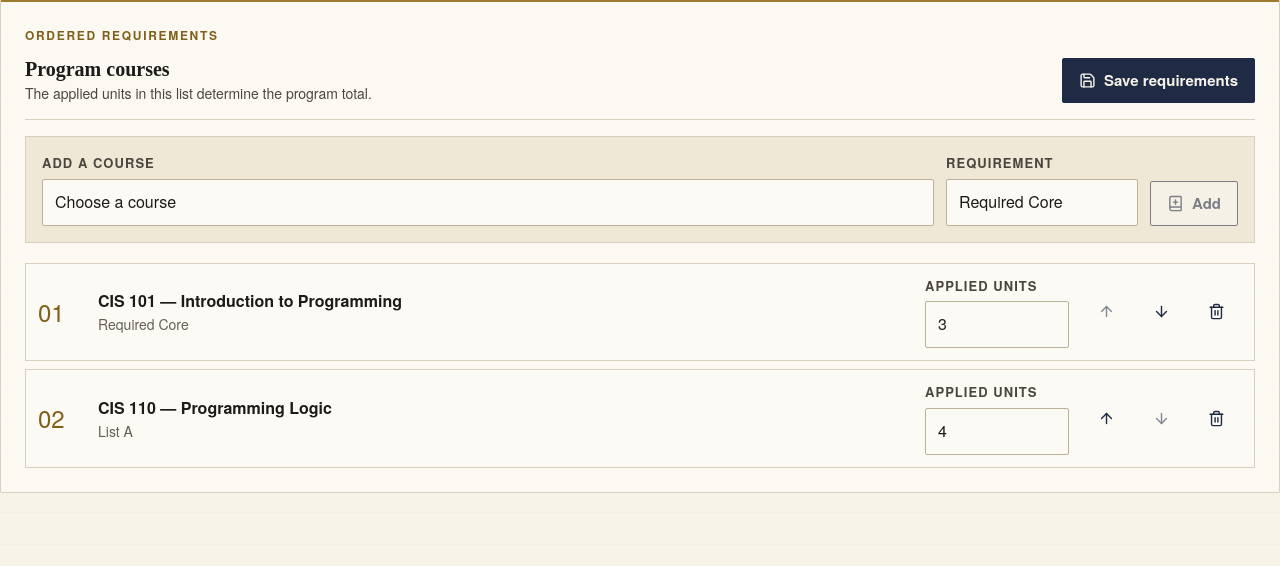
Test: ProgramCourseBuilder › saves edits made while an earlier write is still in flight
The image size is (1280, 566).
Step 1. Replace the text in the field labelled "Applied units" in the row of "CIS 101 — Introduction to Programming" with "3.5" → (997, 325), box [925, 301, 1069, 348]
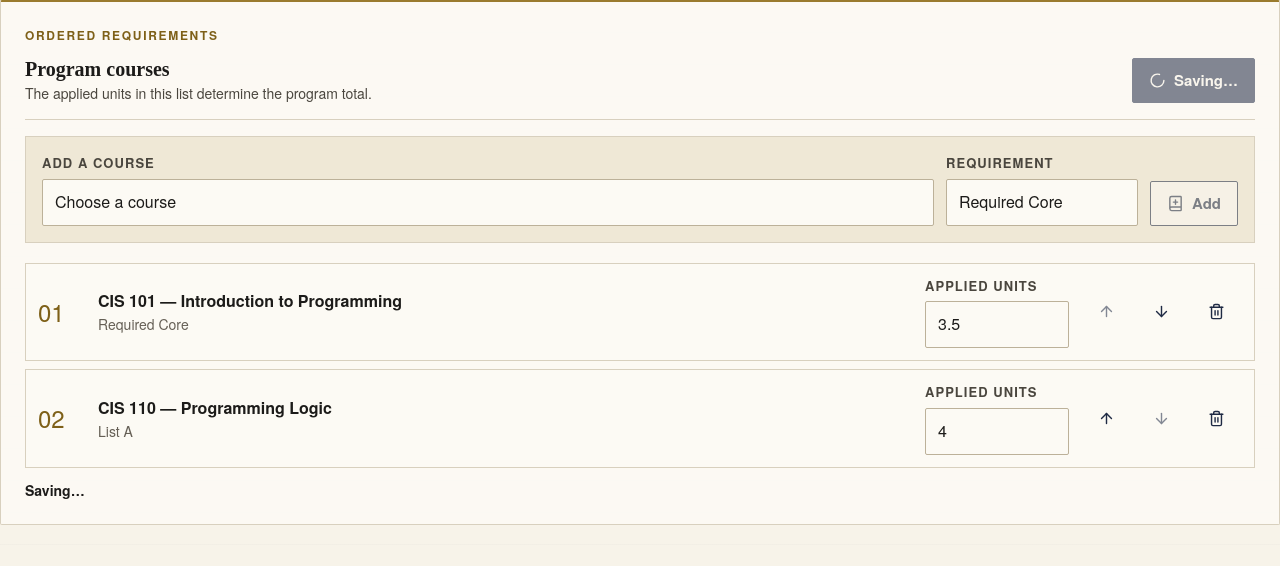
Step 2. Replace the text in the field labelled "Applied units" in the row of "CIS 101 — Introduction to Programming" with "4.25" → (997, 325), box [925, 301, 1069, 348]
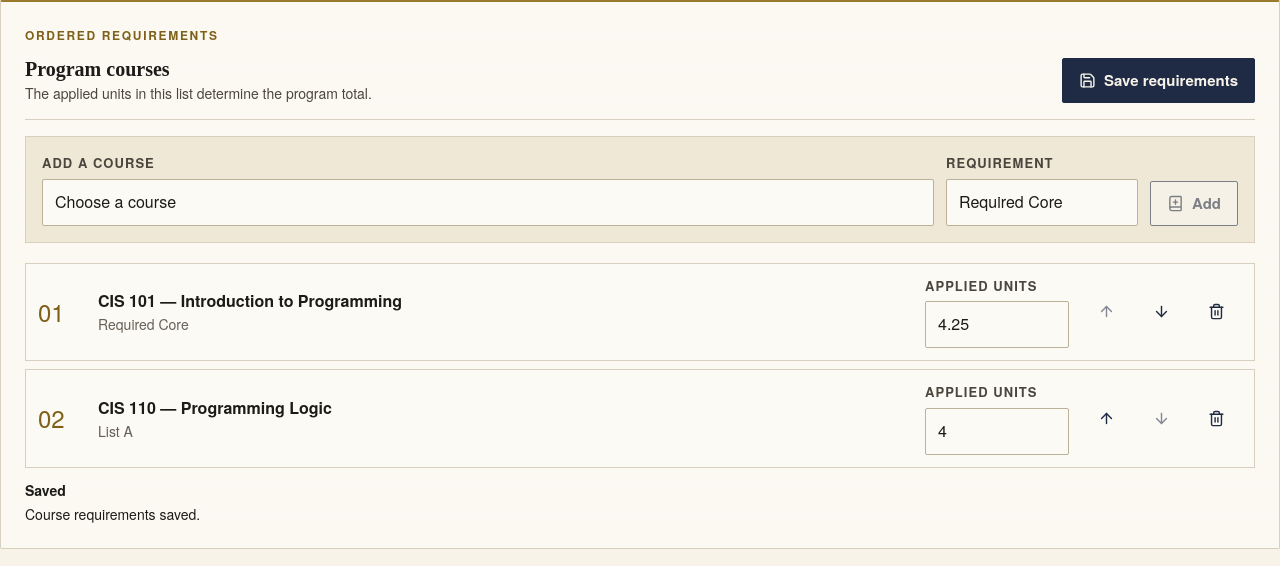
Result: the message shows "Saved" at [25, 480, 66, 500]
